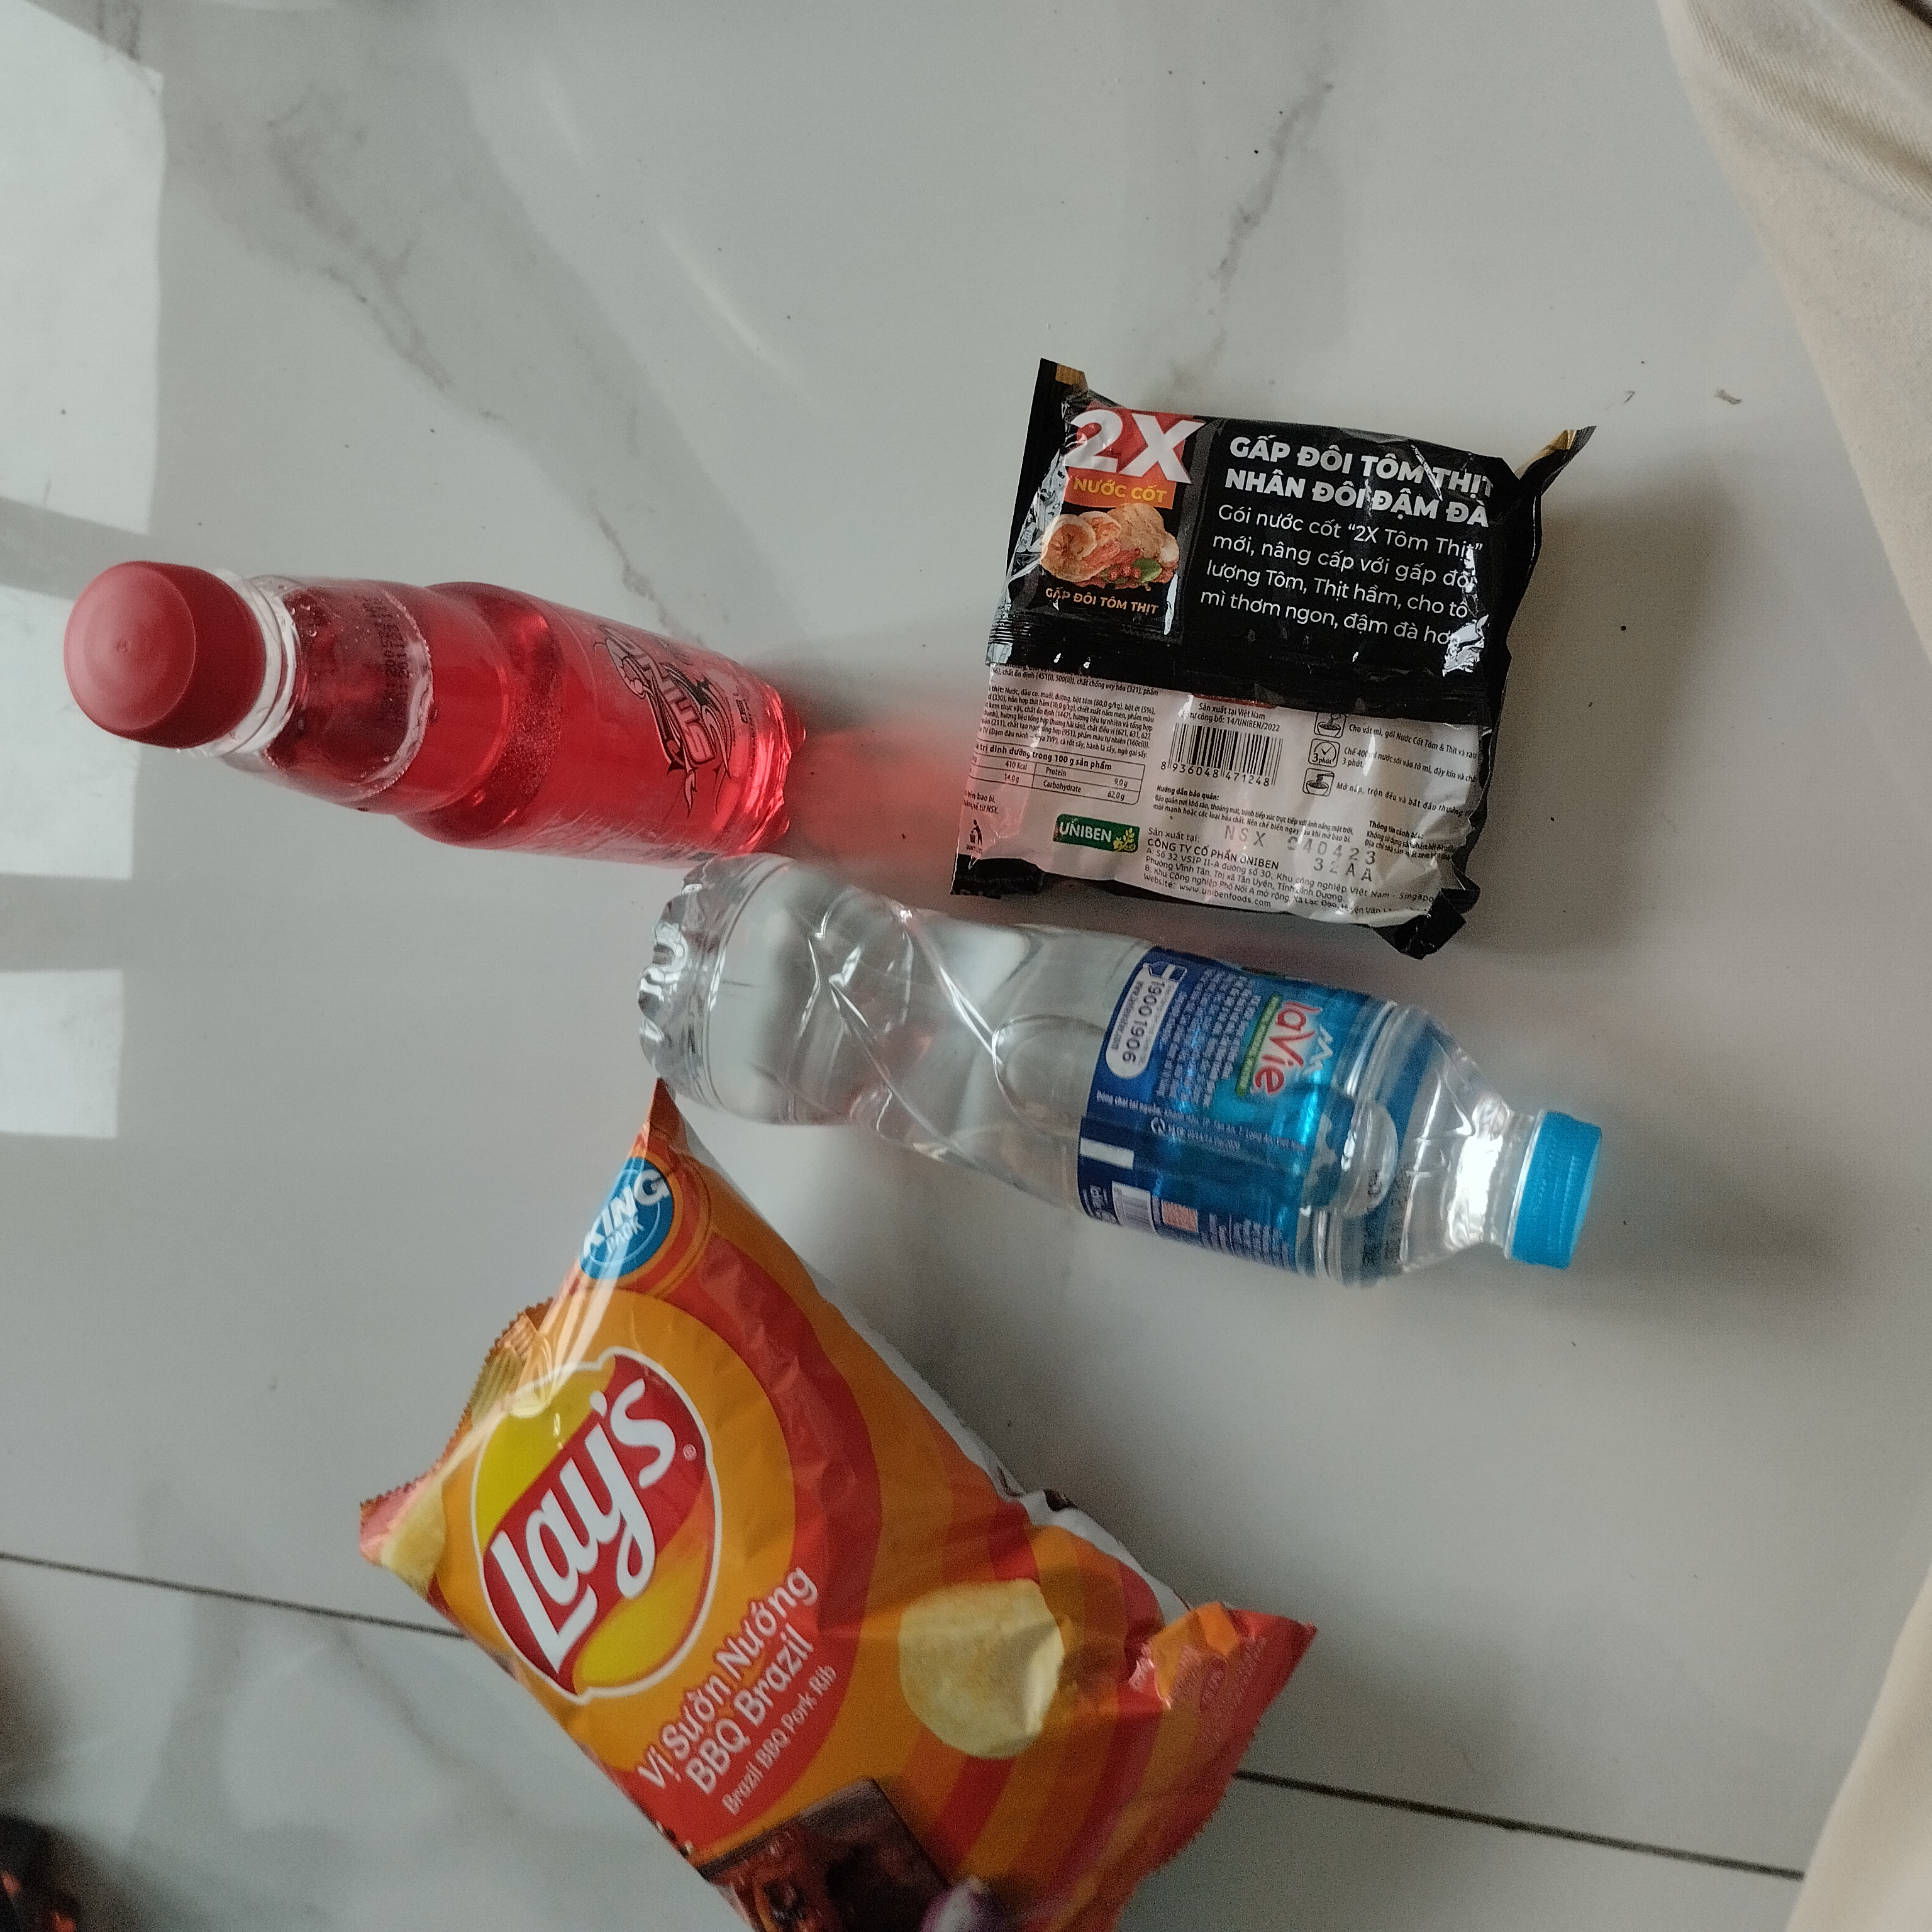3mien: (941, 352, 1603, 987)
Lavie: (626, 846, 1612, 1292)
Lays: (352, 1077, 1309, 1932)
Sting: (58, 540, 816, 867)
